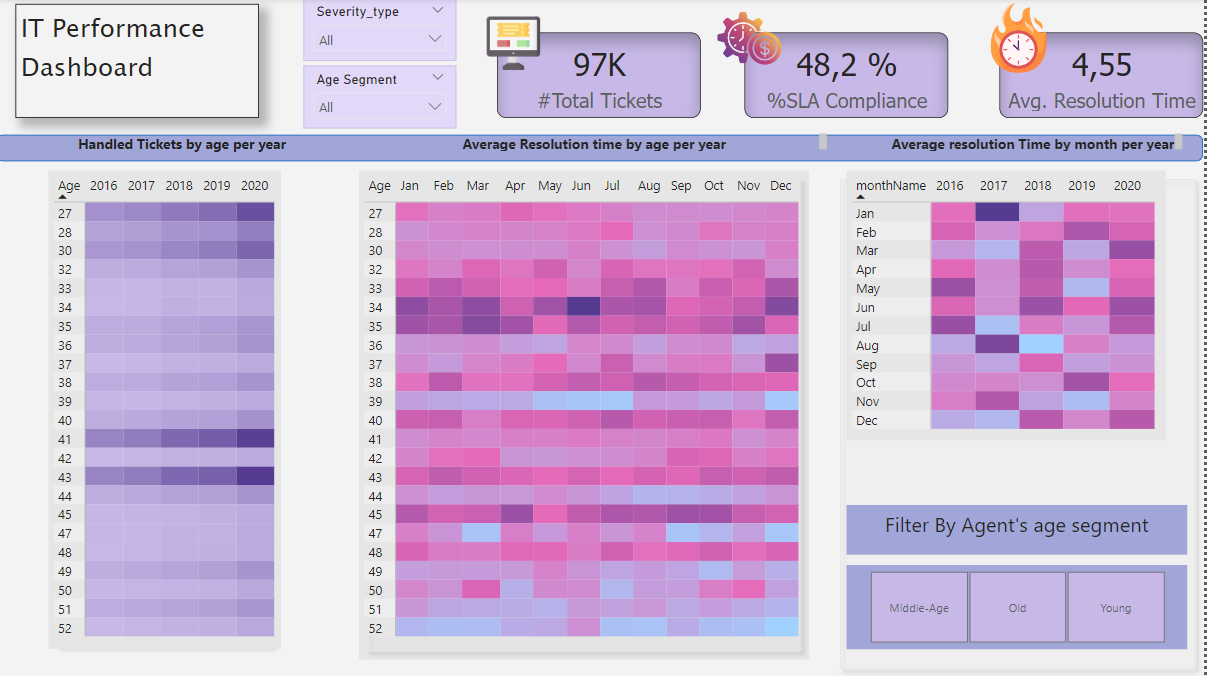

Layout of this report page (visuals, bound fields, positions):
{"tool":"powerbi","page":{"name":"Page 1","canvas":[1280,720],"ordinal":0},"visuals":[{"type":"shape","box":[886,182.9,394.5,537.6],"z":0},{"type":"card","fields":{"Values":["measureTable.#Total Tickets"]},"box":[531.3,36.6,216.3,90.7],"z":1000},{"type":"card","fields":{"Values":["measureTable.AVG Resolution Time"]},"box":[1532.5,37.5,352.5,120],"z":2000},{"type":"card","fields":{"Values":["measureTable.%SLA Compliance"]},"box":[793.7,36.6,216.3,90.7],"z":3000},{"type":"pivotTable","title":"Avg resolution time per Year and Month","fields":{"Columns":["Calendar.year"],"Values":["measureTable.AVG Resolution Time"],"Rows":["Calendar.monthName"]},"box":[901.9,182.9,338.8,286.3],"z":4000},{"type":"card","fields":{"Values":["measureTable.AVG Resolution Time"]},"box":[1063.7,36.2,216.3,90.7],"z":5000},{"type":"image","box":[734.9,0,127.2,84.3],"z":6000},{"type":"image","box":[1040.3,0,85.9,84.3],"z":7000},{"type":"shape","box":[55.7,182.9,246.5,513.8],"z":8000},{"type":"image","box":[509,14.3,79.5,66.8],"z":9000},{"type":"pivotTable","title":"#Handled Tickets by Age per Year","fields":{"Rows":["IT Agents.Age"],"Values":["measureTable.#Total Tickets"],"Columns":["Calendar.year"]},"box":[55.7,182.9,246.5,507.4],"z":10000},{"type":"shape","box":[384.9,182.9,477.2,518.5],"z":11000},{"type":"pivotTable","fields":{"Rows":["IT Agents.Age"],"Columns":["Calendar.monthName"],"Values":["measureTable.AVG Resolution Time"]},"box":[384.9,182.9,477.2,507.4],"z":12000},{"type":"slicer","title":"Filter By Age Segment","fields":{"Values":["IT Agents.Age Segment"]},"box":[901.9,601.3,361.1,89.1],"z":13000},{"type":"shape","box":[0,144.7,1280,28.6],"z":14000},{"type":"textbox","box":[901.9,537.6,361.1,52.5],"z":15000},{"type":"textbox","box":[55.7,138.4,283.1,35],"z":16000},{"type":"textbox","box":[389.7,138.4,496.3,28.6],"z":17000},{"type":"textbox","box":[943.2,138.4,319.7,28.6],"z":18000},{"type":"slicer","fields":{"Values":["Tickets.Severity_type"]},"box":[326.1,0,162.2,66.8],"z":19000},{"type":"slicer","fields":{"Values":["IT Agents.Age Segment"]},"box":[326.1,71.6,162.2,66.8],"z":20000},{"type":"textbox","box":[20.7,6.4,257.7,120.9],"z":21000}]}

Visuals, with their boxes in screenshot pixels (x1, y1, x2, y2), scaled from the page's 1280x720 canvas onto the 1207x676 screenshot:
shape: <region>835, 172, 1206, 675</region>
card - measureTable.#Total Tickets: <region>501, 34, 705, 120</region>
card - measureTable.%SLA Compliance: <region>748, 34, 952, 120</region>
"Avg resolution time per Year and Month" pivotTable: <region>850, 172, 1170, 441</region>
card - measureTable.AVG Resolution Time: <region>1003, 34, 1206, 119</region>
image: <region>693, 0, 813, 79</region>
image: <region>981, 0, 1062, 79</region>
shape: <region>53, 172, 285, 654</region>
image: <region>480, 13, 555, 76</region>
"#Handled Tickets by Age per Year" pivotTable: <region>53, 172, 285, 648</region>
shape: <region>363, 172, 813, 659</region>
pivotTable - IT Agents.Age x Calendar.monthName: <region>363, 172, 813, 648</region>
"Filter By Age Segment" slicer: <region>850, 565, 1191, 648</region>
shape: <region>0, 136, 1206, 163</region>
textbox: <region>850, 505, 1191, 554</region>
textbox: <region>53, 130, 319, 163</region>
textbox: <region>367, 130, 835, 157</region>
textbox: <region>889, 130, 1191, 157</region>
slicer - Tickets.Severity_type: <region>308, 0, 460, 63</region>
slicer - IT Agents.Age Segment: <region>308, 67, 460, 130</region>
textbox: <region>20, 6, 263, 120</region>
